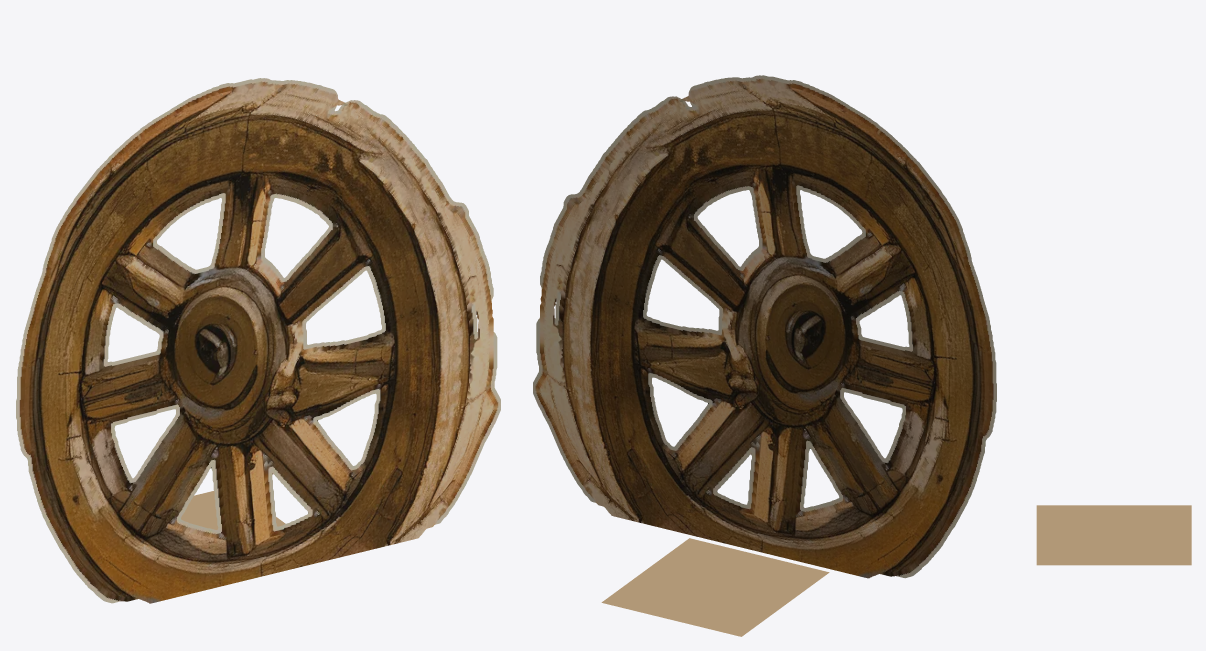
Rendered from toad-prop-cart-wheel.glb.
3 views of the same model, side by side, from view 1: azimuth 30°, elevation 25°; view 2: azimuth 150°, elevation 25°; view 3: azimuth 270°, elevation 25° (orthographic). The views are drawn at different scales.
Visible parts, largest first — view 1: cart-wheel; view 2: cart-wheel; view 3: cart-wheel.
Part boxes in pixels (x1,y1,x2,y2): cart-wheel: [16, 78, 500, 603]; cart-wheel: [533, 75, 996, 636]; cart-wheel: [1036, 505, 1191, 565].
Bounding box in the file's own units: 0.101 × 0.0995 × 0.035.
1 material, 1 textured.
